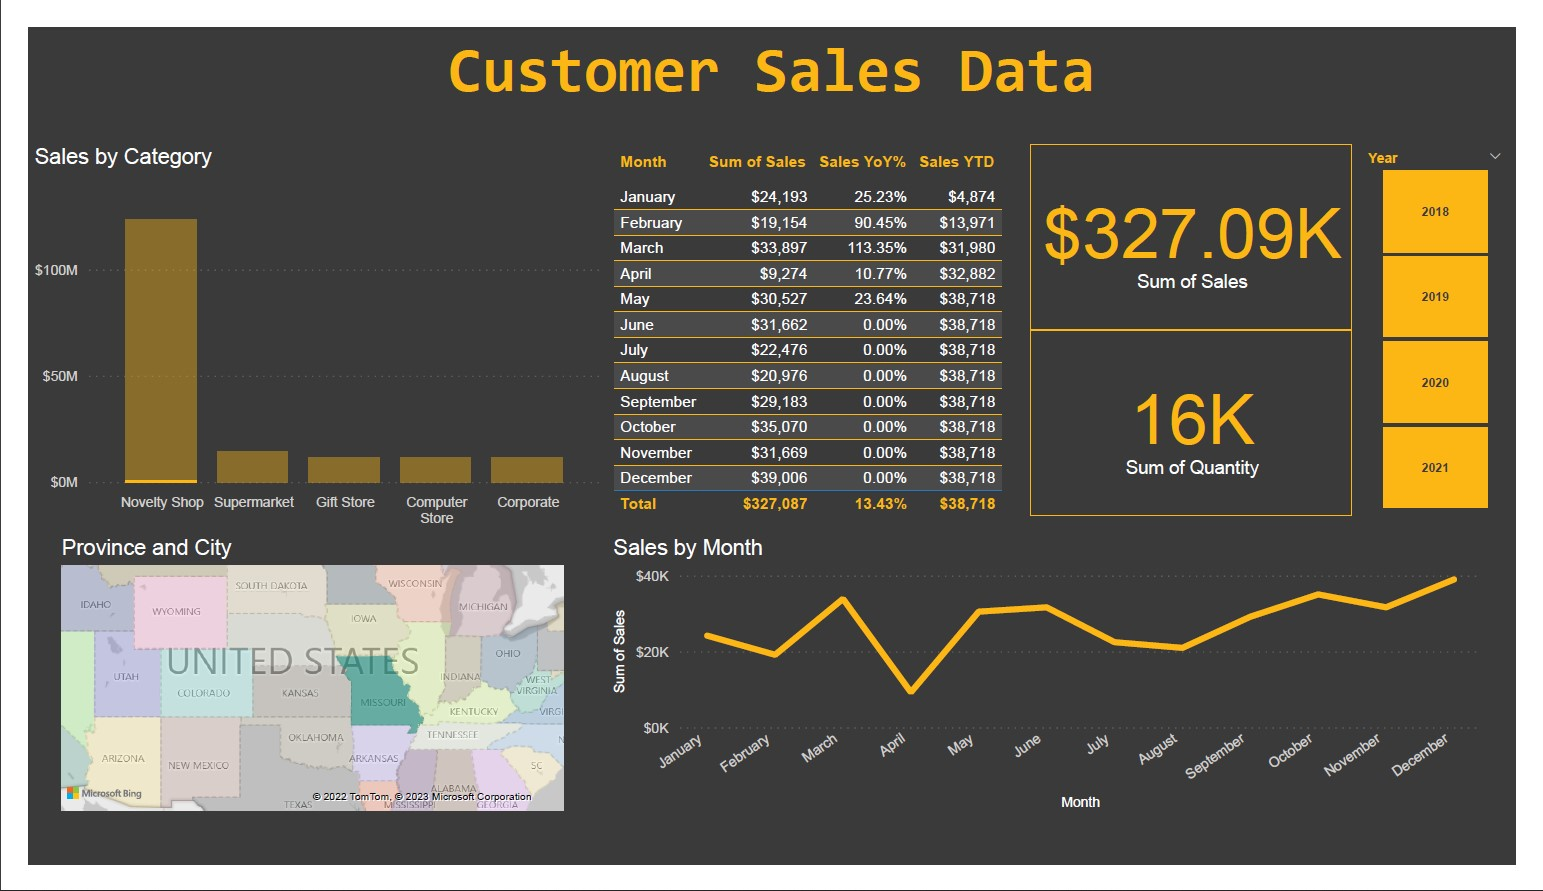

The page's visual inventory and layout, read from the dashboard file:
{"tool":"powerbi","page":{"name":"Page 1","canvas":[1280,720],"ordinal":0},"visuals":[{"type":"clusteredColumnChart","title":"Sales by Category","fields":{"Y":["Sum(InvoiceData.Sales)"],"Category":["MasterCustomer.CustomerCategoryName"]},"box":[0,100,498.3,336.7],"z":0},{"type":"textbox","box":[343.3,0,591.7,73.3],"z":1000},{"type":"slicer","fields":{"Values":["InvoiceData.Date.Variation.Date Hierarchy.Year"]},"box":[1140,100,140,320],"z":2000},{"type":"tableEx","fields":{"Values":["InvoiceData.Date.Variation.Date Hierarchy.Month","Sum(InvoiceData.Sales)","InvoiceData.Sales YoY%","InvoiceData.Sales YTD"]},"box":[498.3,100,363.3,336.7],"z":3000},{"type":"lineChart","title":"Sales by Month","fields":{"Y":["Sum(InvoiceData.Sales)"],"Category":["InvoiceData.Date.Variation.Date Hierarchy.Month"]},"box":[498.3,436.7,756.7,241.7],"z":4000},{"type":"card","fields":{"Values":["Sum(InvoiceData.Sales)"]},"box":[861.7,100,278.3,160],"z":5000},{"type":"card","fields":{"Values":["Sum(InvoiceData.Quantity)"]},"box":[861.7,260,278.3,160],"z":6000},{"type":"filledMap","fields":{"Category":["MasterCustomer.Province"],"Series":["MasterCustomer.City"]},"box":[23.3,436.7,441.7,241.7],"z":6001}]}

Visuals, with their boxes in screenshot pixels (x1, y1, x2, y2), scaled from the page's 1280x720 canvas onto the 1543x891 screenshot:
"Sales by Category" clusteredColumnChart: {"left": 0, "top": 124, "right": 601, "bottom": 540}
textbox: {"left": 414, "top": 0, "right": 1127, "bottom": 91}
slicer - InvoiceData.Date.Variation.Date Hierarchy.Year: {"left": 1374, "top": 124, "right": 1542, "bottom": 520}
tableEx - InvoiceData.Date.Variation.Date Hierarchy.Month x Sum(InvoiceData.Sales): {"left": 601, "top": 124, "right": 1039, "bottom": 540}
"Sales by Month" lineChart: {"left": 601, "top": 540, "right": 1513, "bottom": 840}
card - Sum(InvoiceData.Sales): {"left": 1039, "top": 124, "right": 1374, "bottom": 322}
card - Sum(InvoiceData.Quantity): {"left": 1039, "top": 322, "right": 1374, "bottom": 520}
filledMap - MasterCustomer.Province x MasterCustomer.City: {"left": 28, "top": 540, "right": 561, "bottom": 840}
